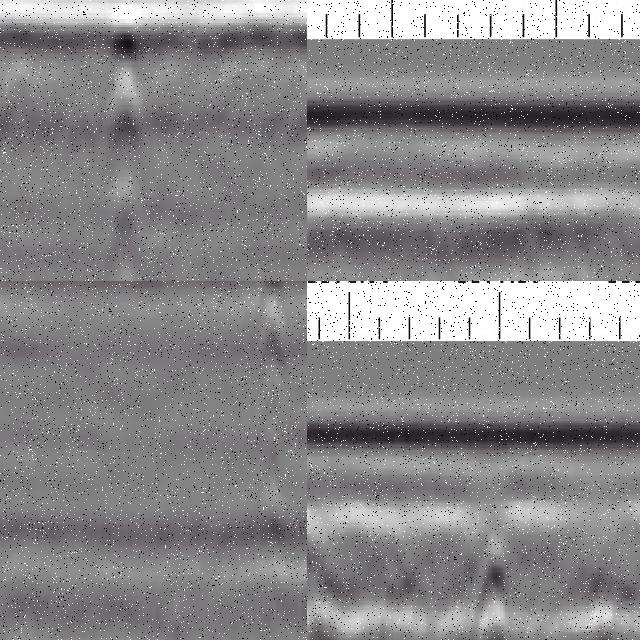crack: (105, 20, 139, 282), (256, 282, 286, 553), (480, 542, 508, 640)
